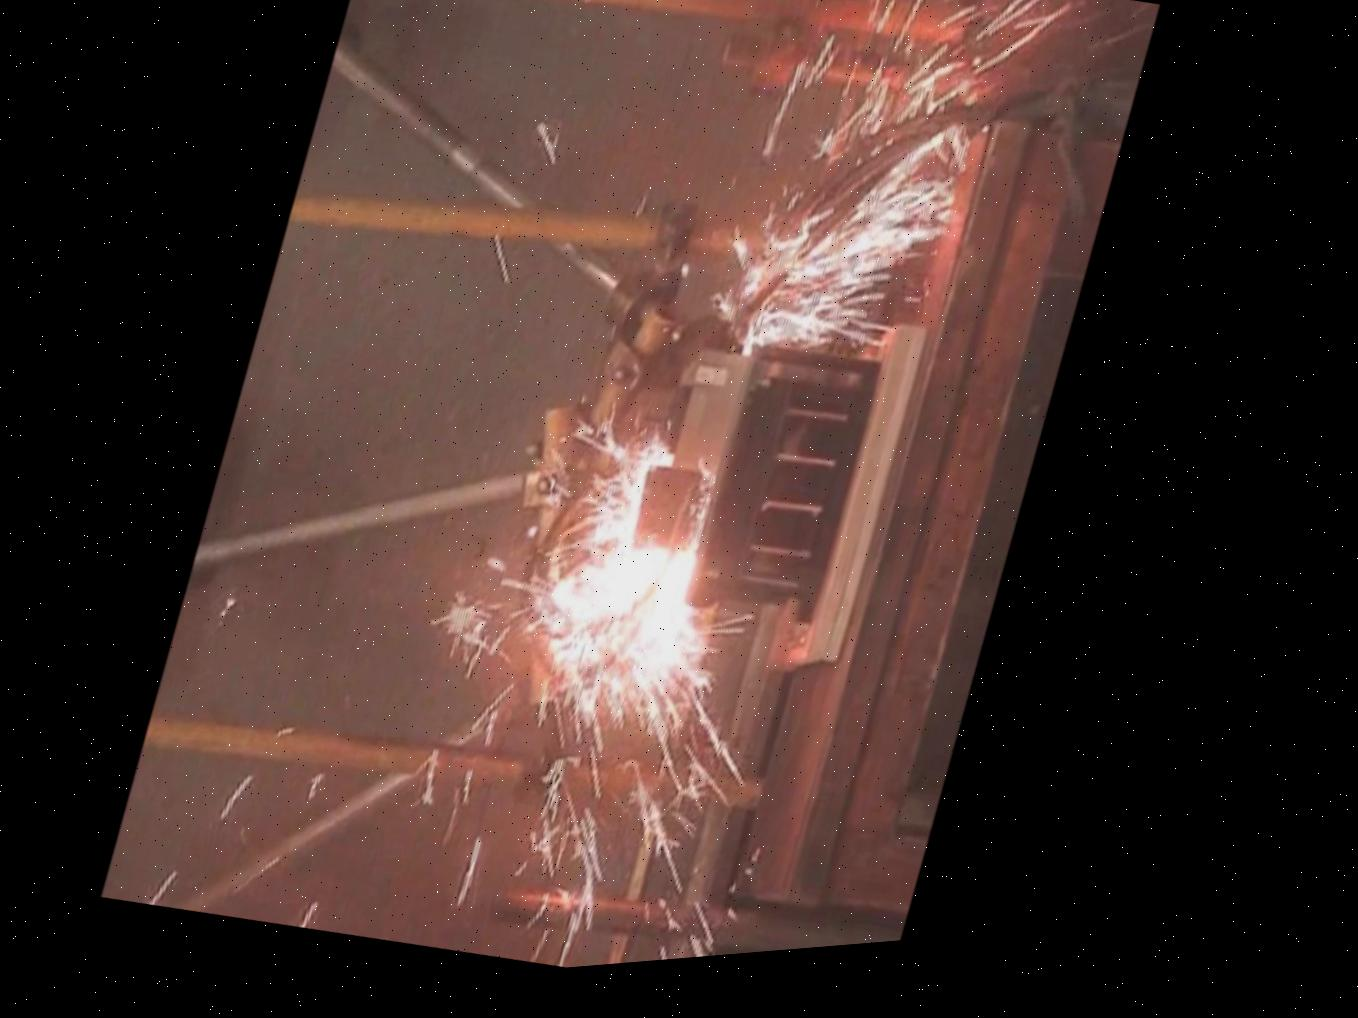fire: (408, 1, 1222, 916)
